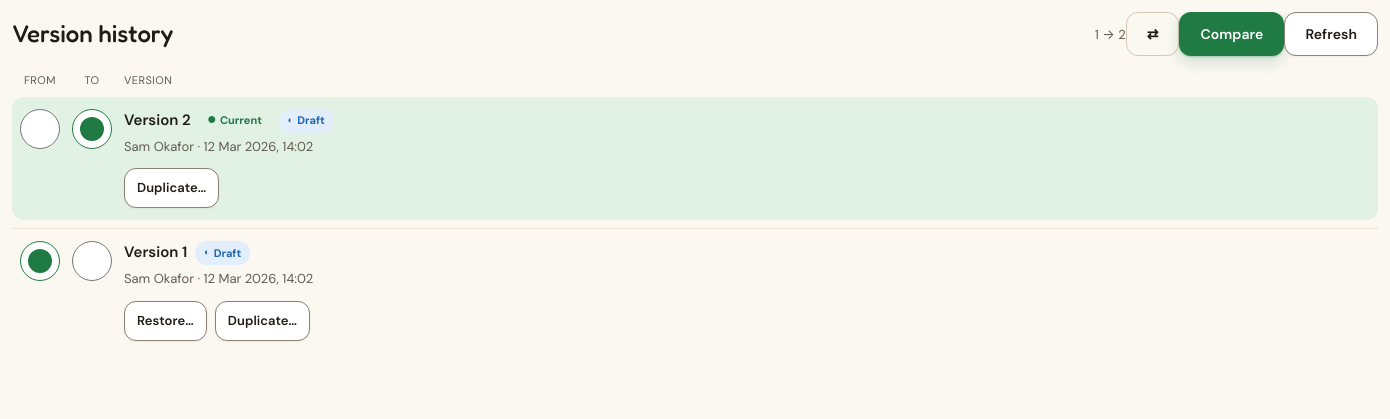
Test: RecipeHistoryComponent › warns before comparing a version with itself, because the answer is predictable
Step 1. Click the radio button named "Compare from version 2" → (40, 128), box [20, 108, 60, 148]
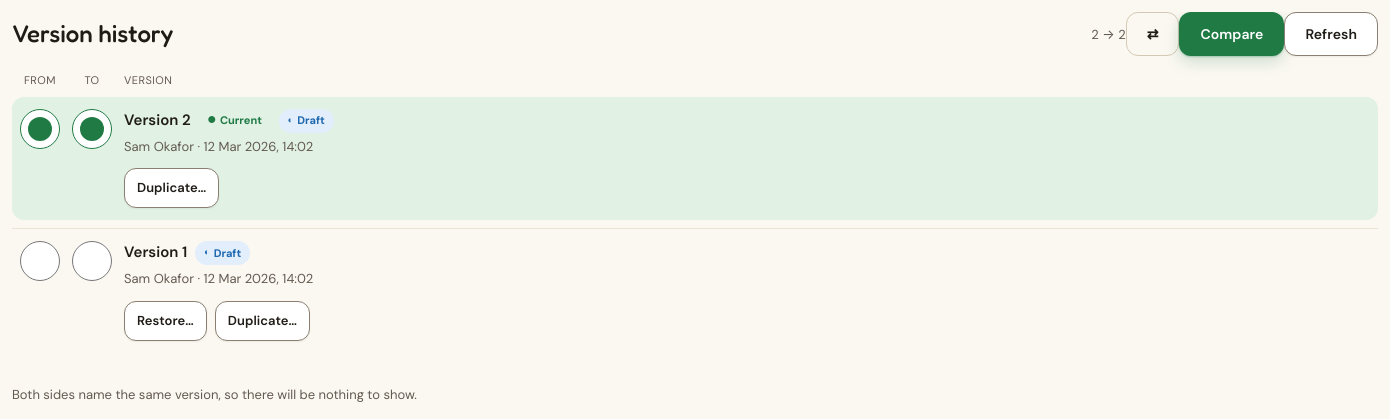
Expected: the text with class "compare-note" shows "same version", [12, 386, 417, 402]
